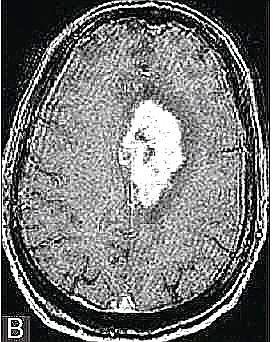Tumor: (118, 90, 186, 214)
